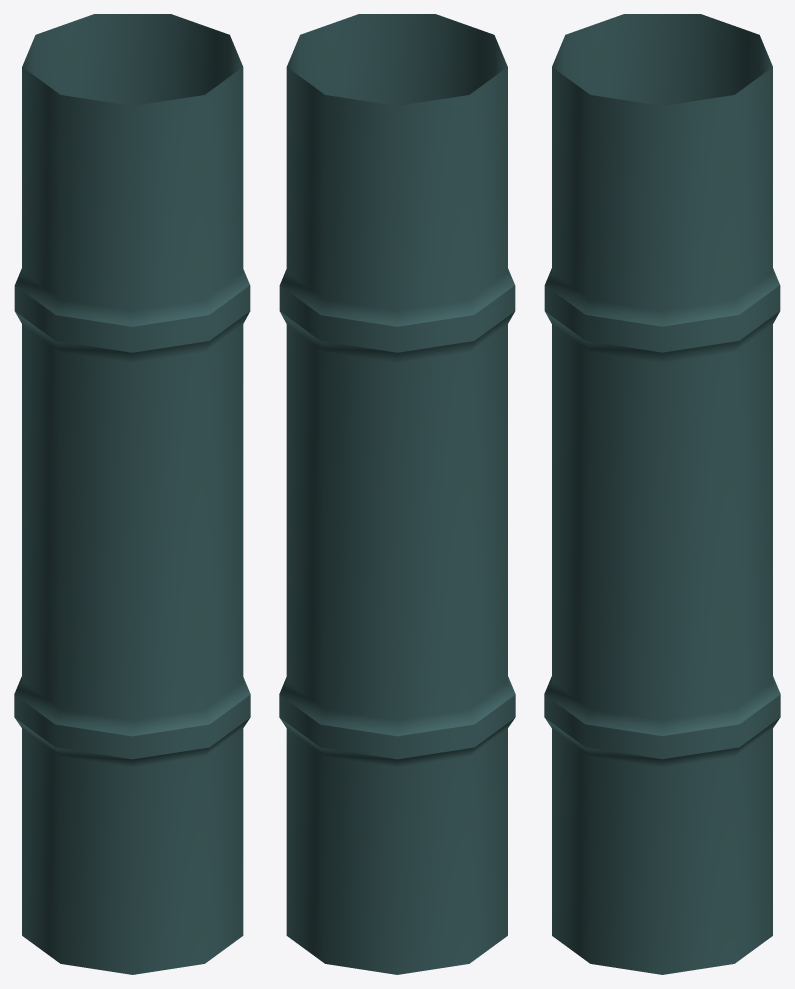
File: Columna.fbx
3 renders of one model, left to right at view 1: azimuth 30°, elevation 25°; view 2: azimuth 150°, elevation 25°; view 3: azimuth 270°, elevation 25°, orthographic.
Visible parts, largest first — view 1: pCylinder13; view 2: pCylinder13; view 3: pCylinder13.
Part boxes in pixels (<box>): pCylinder13: <box>14,14,250,974</box>; pCylinder13: <box>279,14,515,974</box>; pCylinder13: <box>544,14,780,974</box>.
Bounding box in the file's own units: 247 × 1015 × 250.
